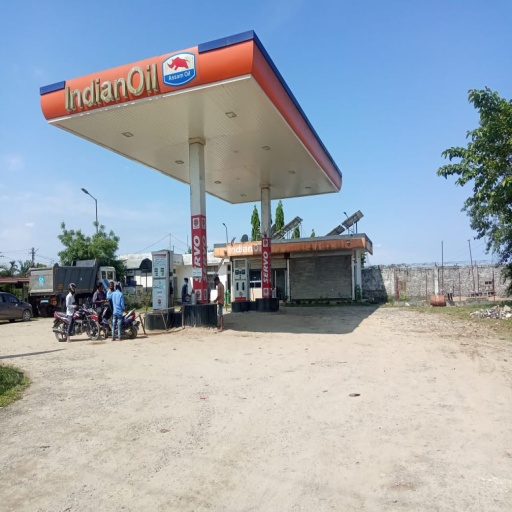roof: (38, 30, 338, 206)
